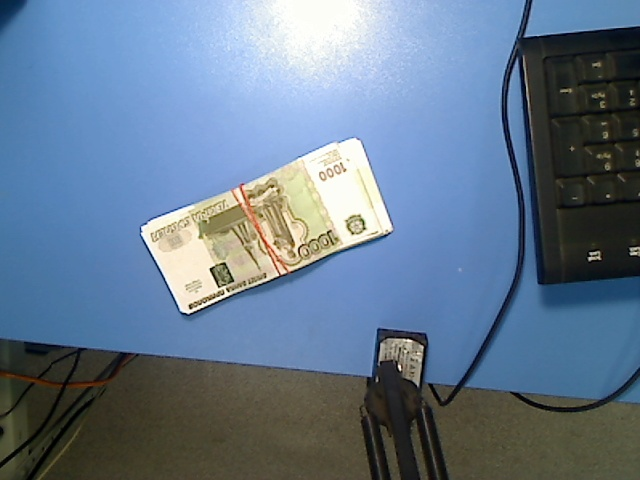banknotes: (137, 135, 397, 319)
